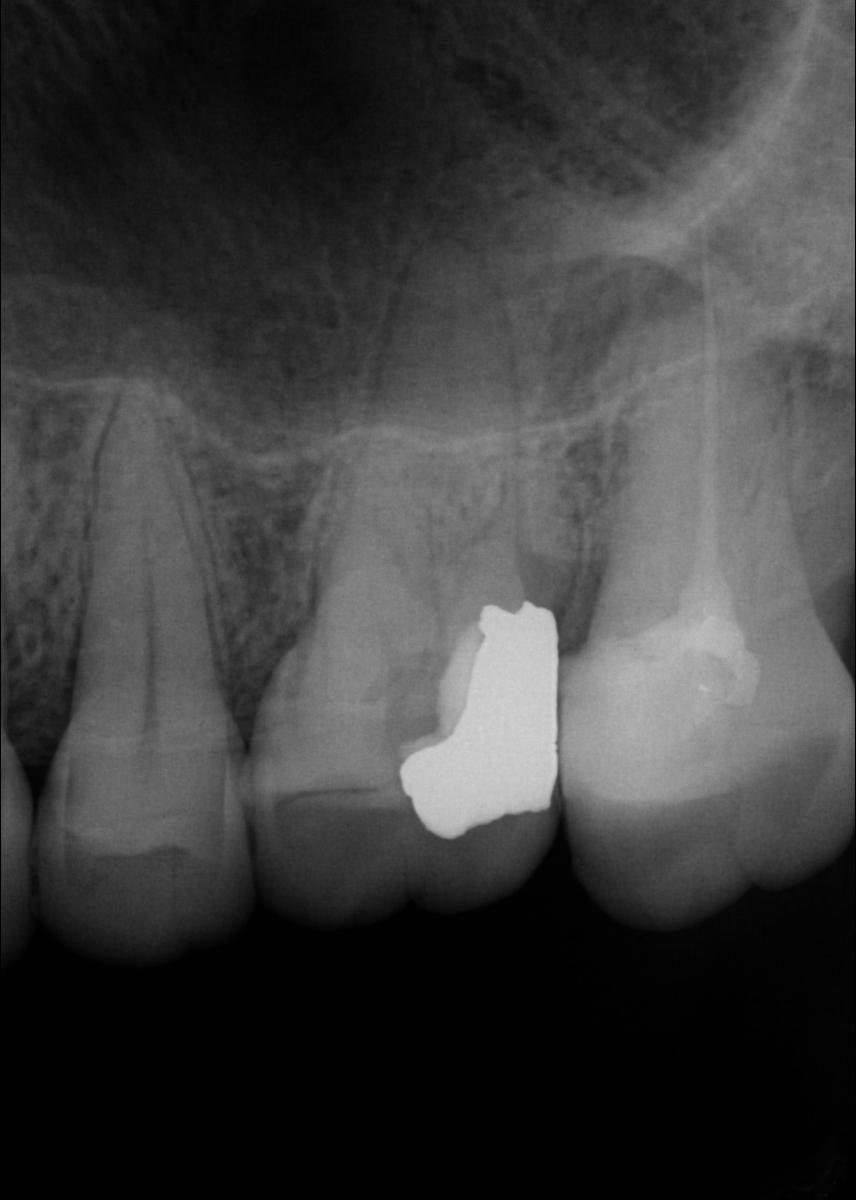Furcation Involvement: (542, 253, 684, 523)
